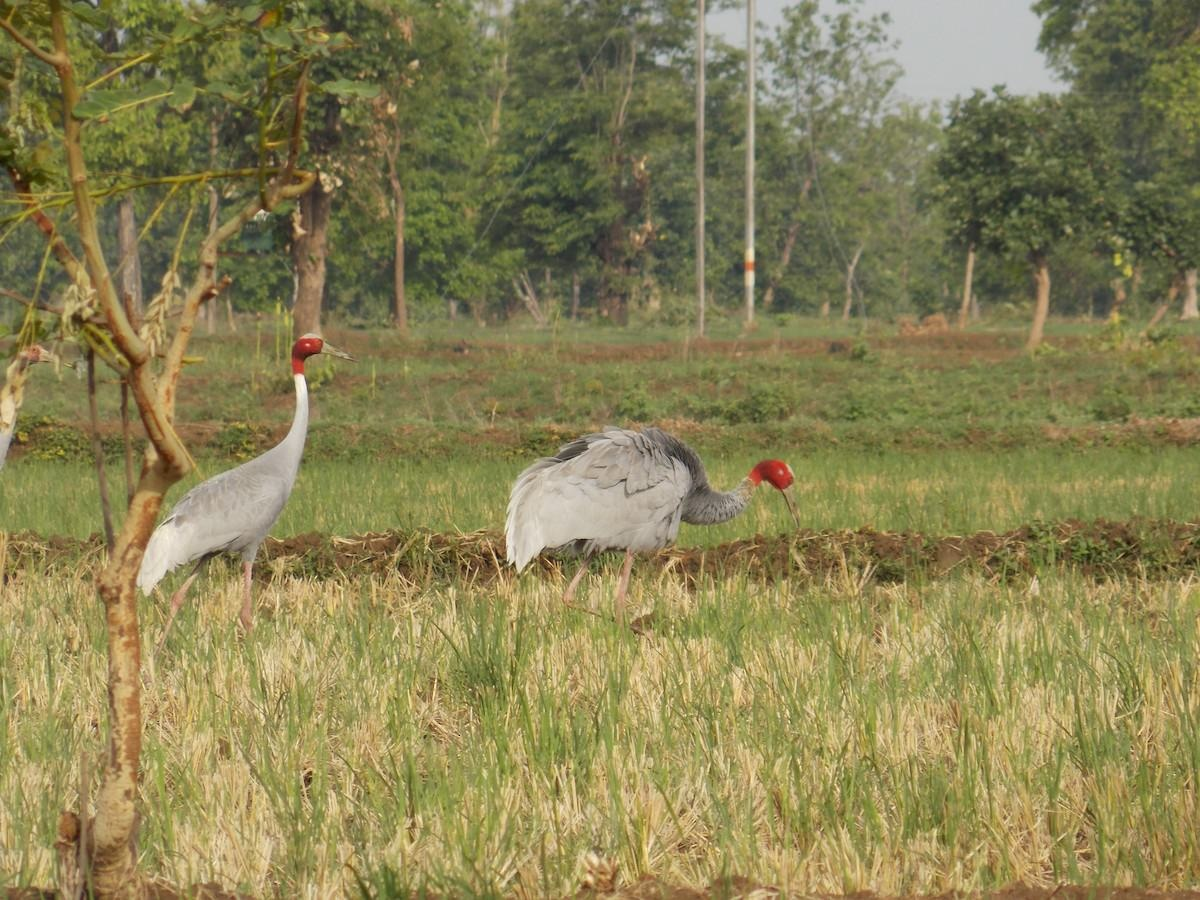crane: (124, 324, 359, 617), (498, 415, 809, 601)
